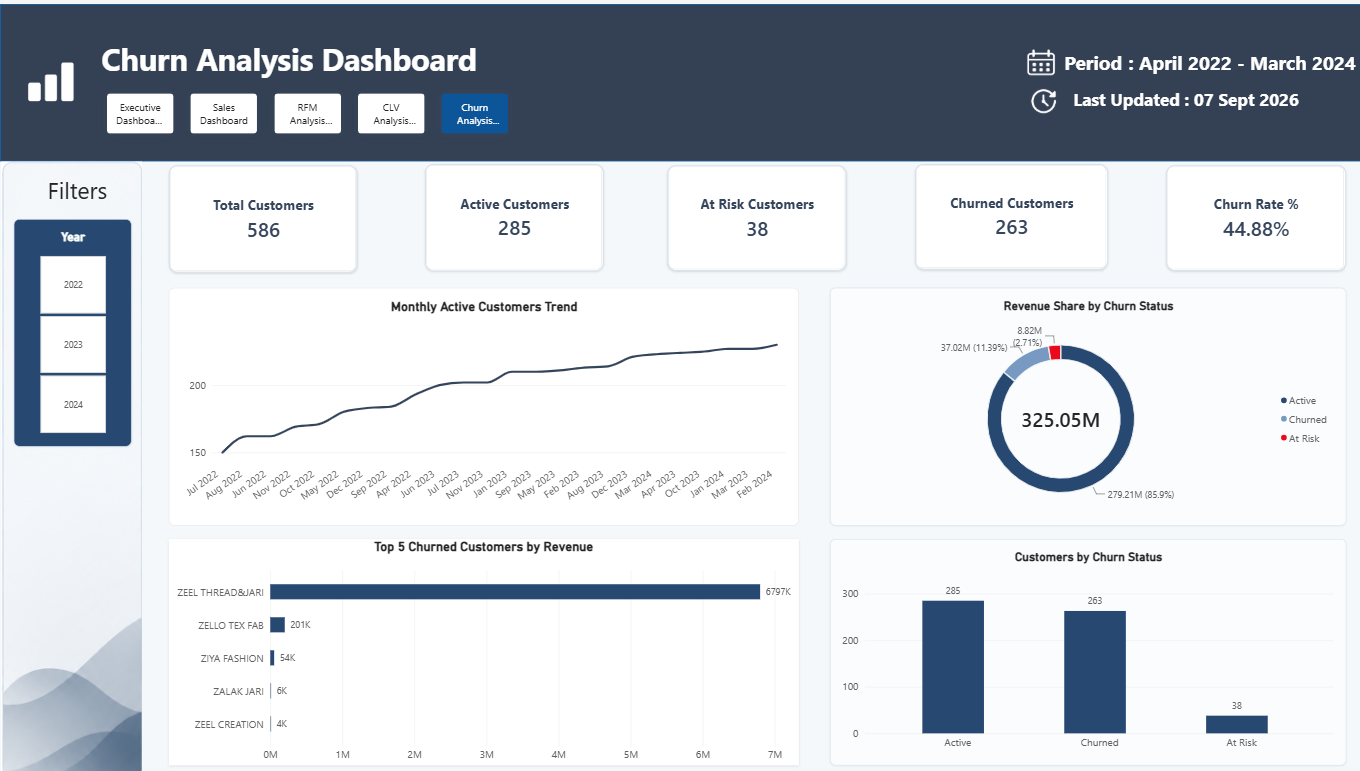

The dashboard page shown, as its layout file describes it:
{"tool":"powerbi","page":{"name":"Churn Analysis Dashboard","canvas":[1920,1080],"ordinal":4},"visuals":[{"type":"shape","box":[0,0,1920.4,220.2],"z":0},{"type":"textbox","box":[142,48,616,70],"z":1000},{"type":"image","box":[0,220,200,860],"z":2000},{"type":"cardVisual","fields":{"Data":["ChurnTable.Churn Total Customers"]},"box":[235.3,226.2,264,150],"z":3000},{"type":"cardVisual","fields":{"Data":["ChurnTable.Active Customers"]},"box":[595.4,224.4,250,150],"z":4000},{"type":"cardVisual","fields":{"Data":["ChurnTable.Churned Customers"]},"box":[1279.4,224.4,270,148.3],"z":5000},{"type":"cardVisual","fields":{"Data":["ChurnTable.Churn Rate %"]},"box":[1632.3,226.2,251.7,148.3],"z":6000},{"type":"cardVisual","fields":{"Data":["ChurnTable.Churn At Risk Customers"]},"box":[933.8,226.2,250,148],"z":7000},{"type":"clusteredBarChart","title":"Top 5 Churned Customers by Revenue","fields":{"Category":["ChurnTable.Customer Name"],"Y":["ChurnTable.Churn Customer Revenue"]},"box":[235.3,749.2,881.3,316.7],"z":8000},{"type":"clusteredColumnChart","title":"Customers by Churn Status","fields":{"Category":["ChurnTable.Churn Status"],"Y":["ChurnTable.Churn Total Customers"]},"box":[1161.8,749.2,722.1,316.7],"z":9000},{"type":"donutChart","title":"Revenue Share by Churn Status","fields":{"Category":["ChurnTable.Churn Status"],"Y":["Sum(ChurnTable.Total Spend)"]},"box":[1161.8,396.3,722.1,333],"z":10000},{"type":"textbox","box":[22,238,140,44],"z":11000},{"type":"slicer","title":"Year","fields":{"Values":["ChurnTable.Churn Year"]},"box":[19.9,300.4,164.7,318.5],"z":12000},{"type":"image","box":[1416,48,80,70],"z":13000},{"type":"textbox","box":[1474,58,432,52],"z":14000},{"type":"image","box":[0,30,142,160],"z":15000},{"type":"textbox","box":[1496,118,362,44],"z":16000},{"type":"image","box":[1426,110,70,52],"z":17000},{"type":"lineChart","title":"Monthly Active Customers Trend","fields":{"Category":["Sheet1.Month Year"],"Y":["ChurnTable.Monthly Active Customers Churn"]},"box":[235.3,396.3,881.3,333],"z":18000},{"type":"pageNavigator","box":[141.2,117.6,579.1,72.4],"z":19000}]}

Visuals, with their boxes in screenshot pixels (x1, y1, x2, y2), scaled from the page's 1920x1080 canvas onto the 1360x771 screenshot:
shape: pyautogui.locateOnScreen(0, 0, 1359, 157)
textbox: pyautogui.locateOnScreen(101, 34, 537, 84)
image: pyautogui.locateOnScreen(0, 157, 142, 770)
cardVisual - ChurnTable.Churn Total Customers: pyautogui.locateOnScreen(167, 161, 354, 269)
cardVisual - ChurnTable.Active Customers: pyautogui.locateOnScreen(422, 160, 599, 267)
cardVisual - ChurnTable.Churned Customers: pyautogui.locateOnScreen(906, 160, 1097, 266)
cardVisual - ChurnTable.Churn Rate %: pyautogui.locateOnScreen(1156, 161, 1334, 267)
cardVisual - ChurnTable.Churn At Risk Customers: pyautogui.locateOnScreen(661, 161, 839, 267)
"Top 5 Churned Customers by Revenue" clusteredBarChart: pyautogui.locateOnScreen(167, 535, 791, 761)
"Customers by Churn Status" clusteredColumnChart: pyautogui.locateOnScreen(823, 535, 1334, 761)
"Revenue Share by Churn Status" donutChart: pyautogui.locateOnScreen(823, 283, 1334, 521)
textbox: pyautogui.locateOnScreen(16, 170, 115, 201)
"Year" slicer: pyautogui.locateOnScreen(14, 214, 131, 442)
image: pyautogui.locateOnScreen(1003, 34, 1060, 84)
textbox: pyautogui.locateOnScreen(1044, 41, 1350, 79)
image: pyautogui.locateOnScreen(0, 21, 101, 136)
textbox: pyautogui.locateOnScreen(1060, 84, 1316, 116)
image: pyautogui.locateOnScreen(1010, 79, 1060, 116)
"Monthly Active Customers Trend" lineChart: pyautogui.locateOnScreen(167, 283, 791, 521)
pageNavigator: pyautogui.locateOnScreen(100, 84, 510, 136)
